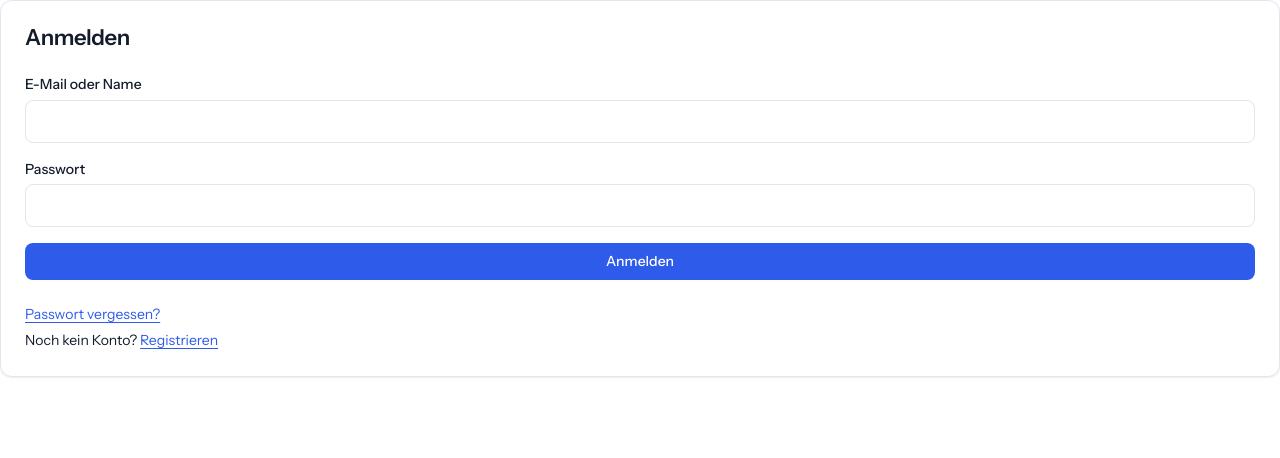
Test case: SignInView › zeigt falsche Zugangsdaten an
Type "Tommy" into the field with id "sign-in-identifier". click: coordinates (640, 121)
box: [25,100,1255,143]
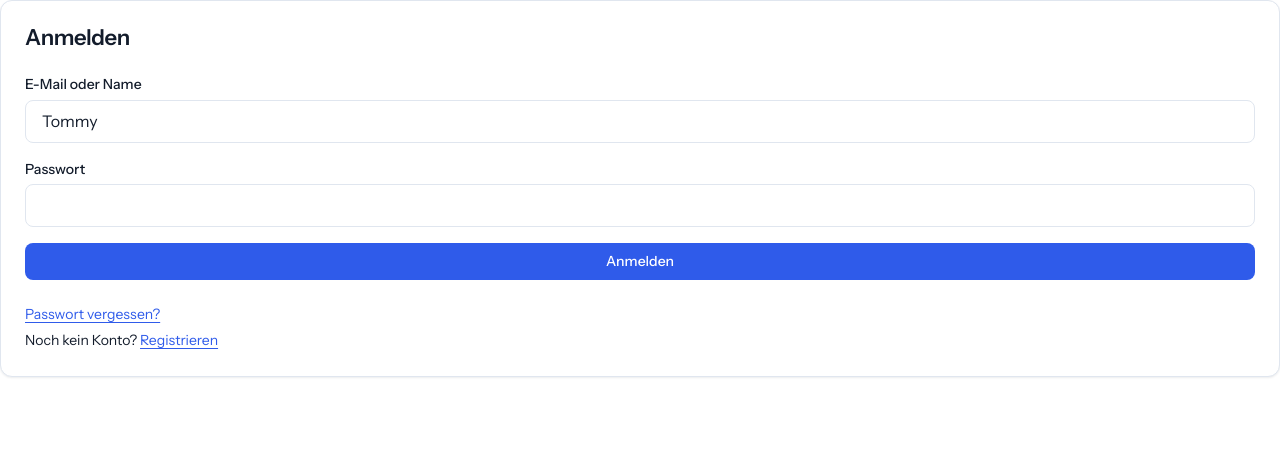
Type "falsch" into the password field with id "sign-in-password". click: coordinates (640, 206)
box: [25,184,1255,227]
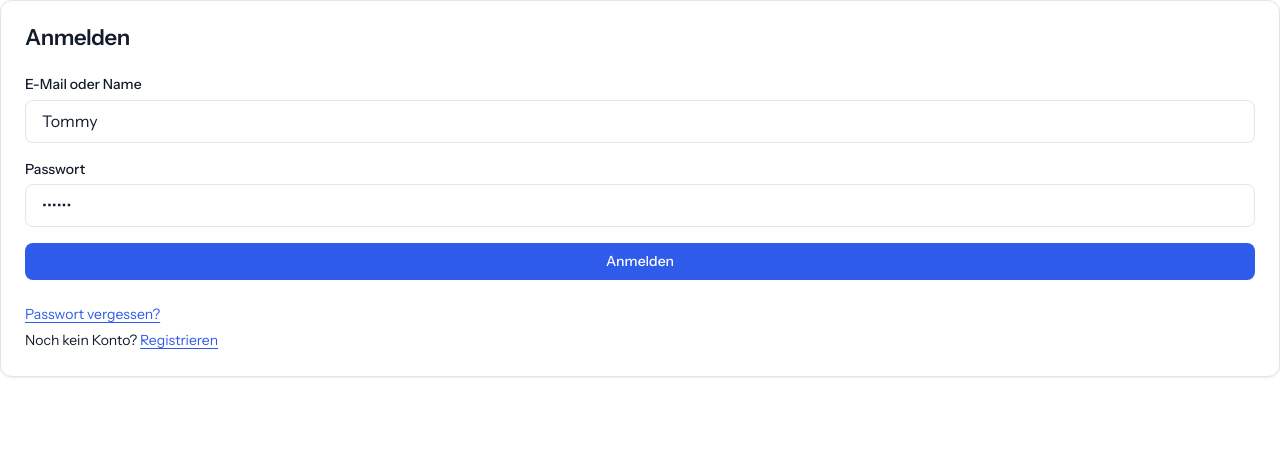
Submit the form, box [25,74,1255,280]
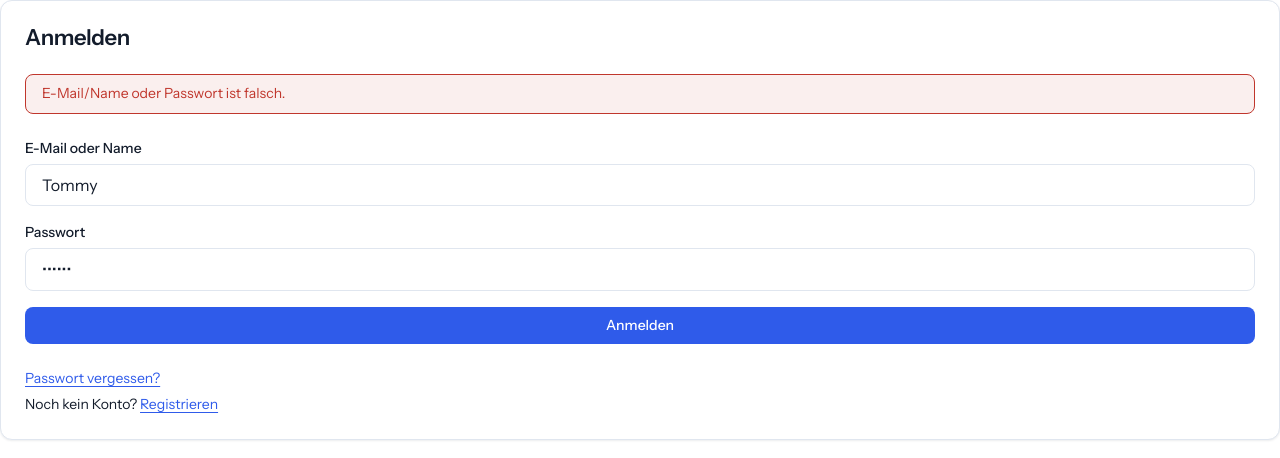
Expected: the text "E-Mail/Name oder Passwort ist falsch." is shown, [25,74,1255,114]
